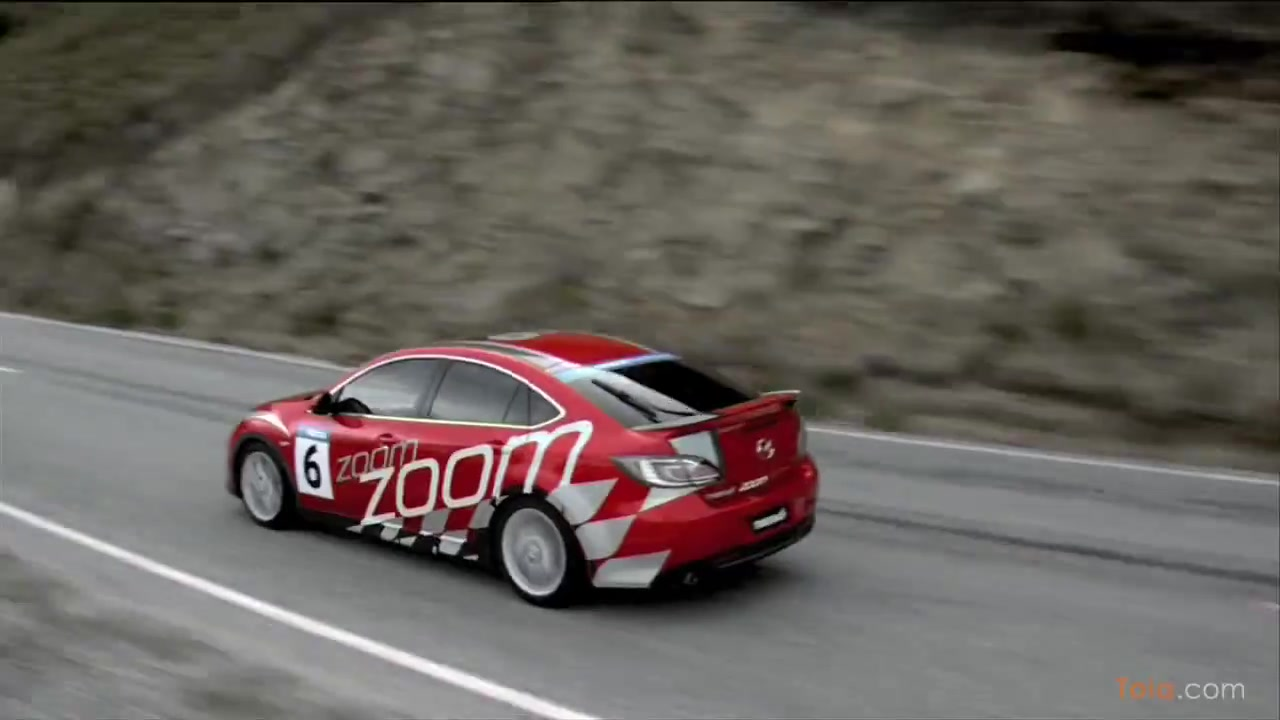car: (228, 325, 821, 614)
